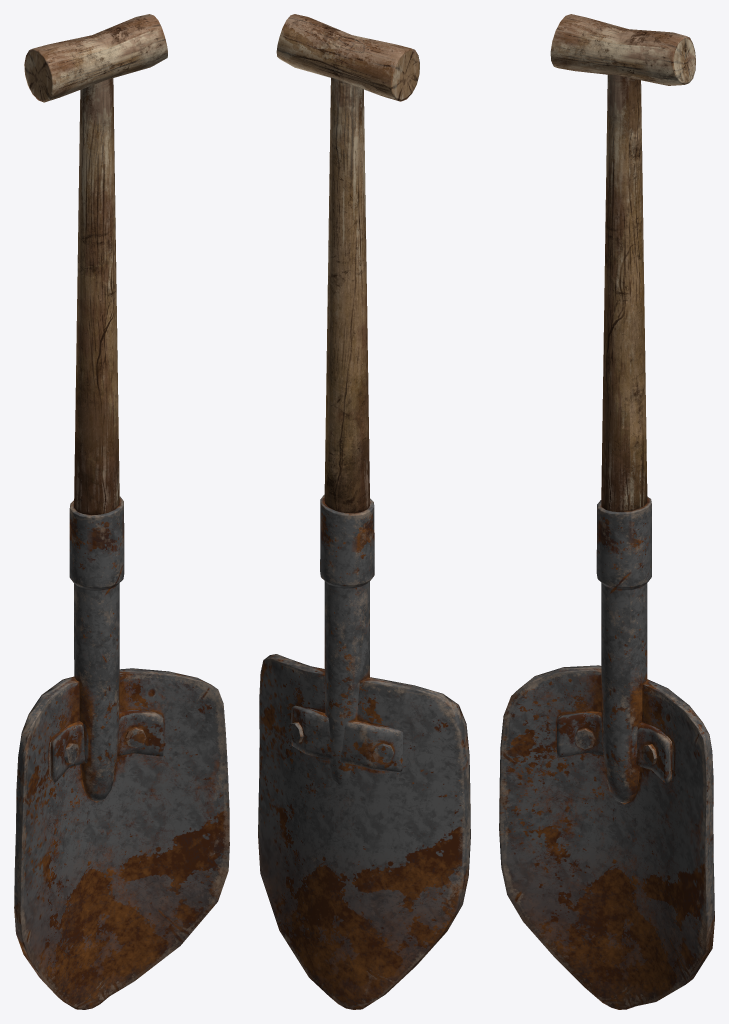
File: SM_Spade.fbx
3 views of the same model, side by side, from view 1: azimuth 30°, elevation 25°; view 2: azimuth 150°, elevation 25°; view 3: azimuth 330°, elevation 25° (orthographic).
Parts seen in each view (by area): view 1: SM_Spade_LOD0; view 2: SM_Spade_LOD0; view 3: SM_Spade_LOD0.
Boxes of the visible parts, <box> form: SM_Spade_LOD0: <box>14,14,229,1009</box>; SM_Spade_LOD0: <box>258,14,470,1009</box>; SM_Spade_LOD0: <box>499,14,714,1009</box>.
Bounding box in the file's own units: 57.52 × 19.6 × 259.
